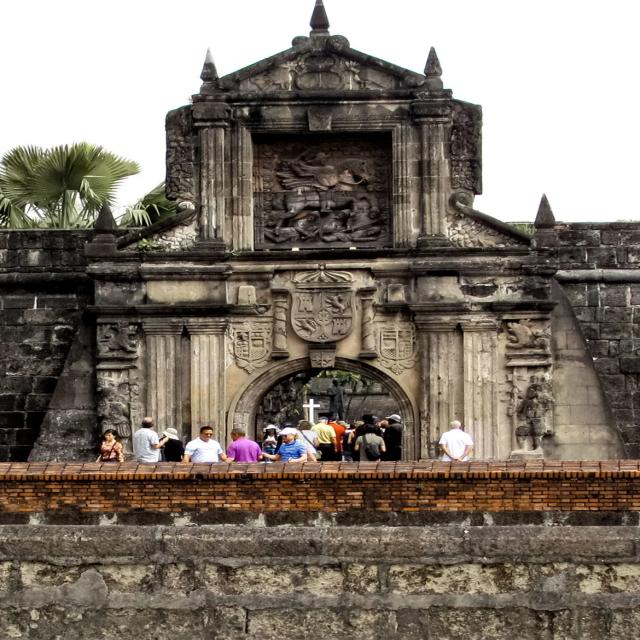Fort Santiago: (0, 1, 640, 462)
